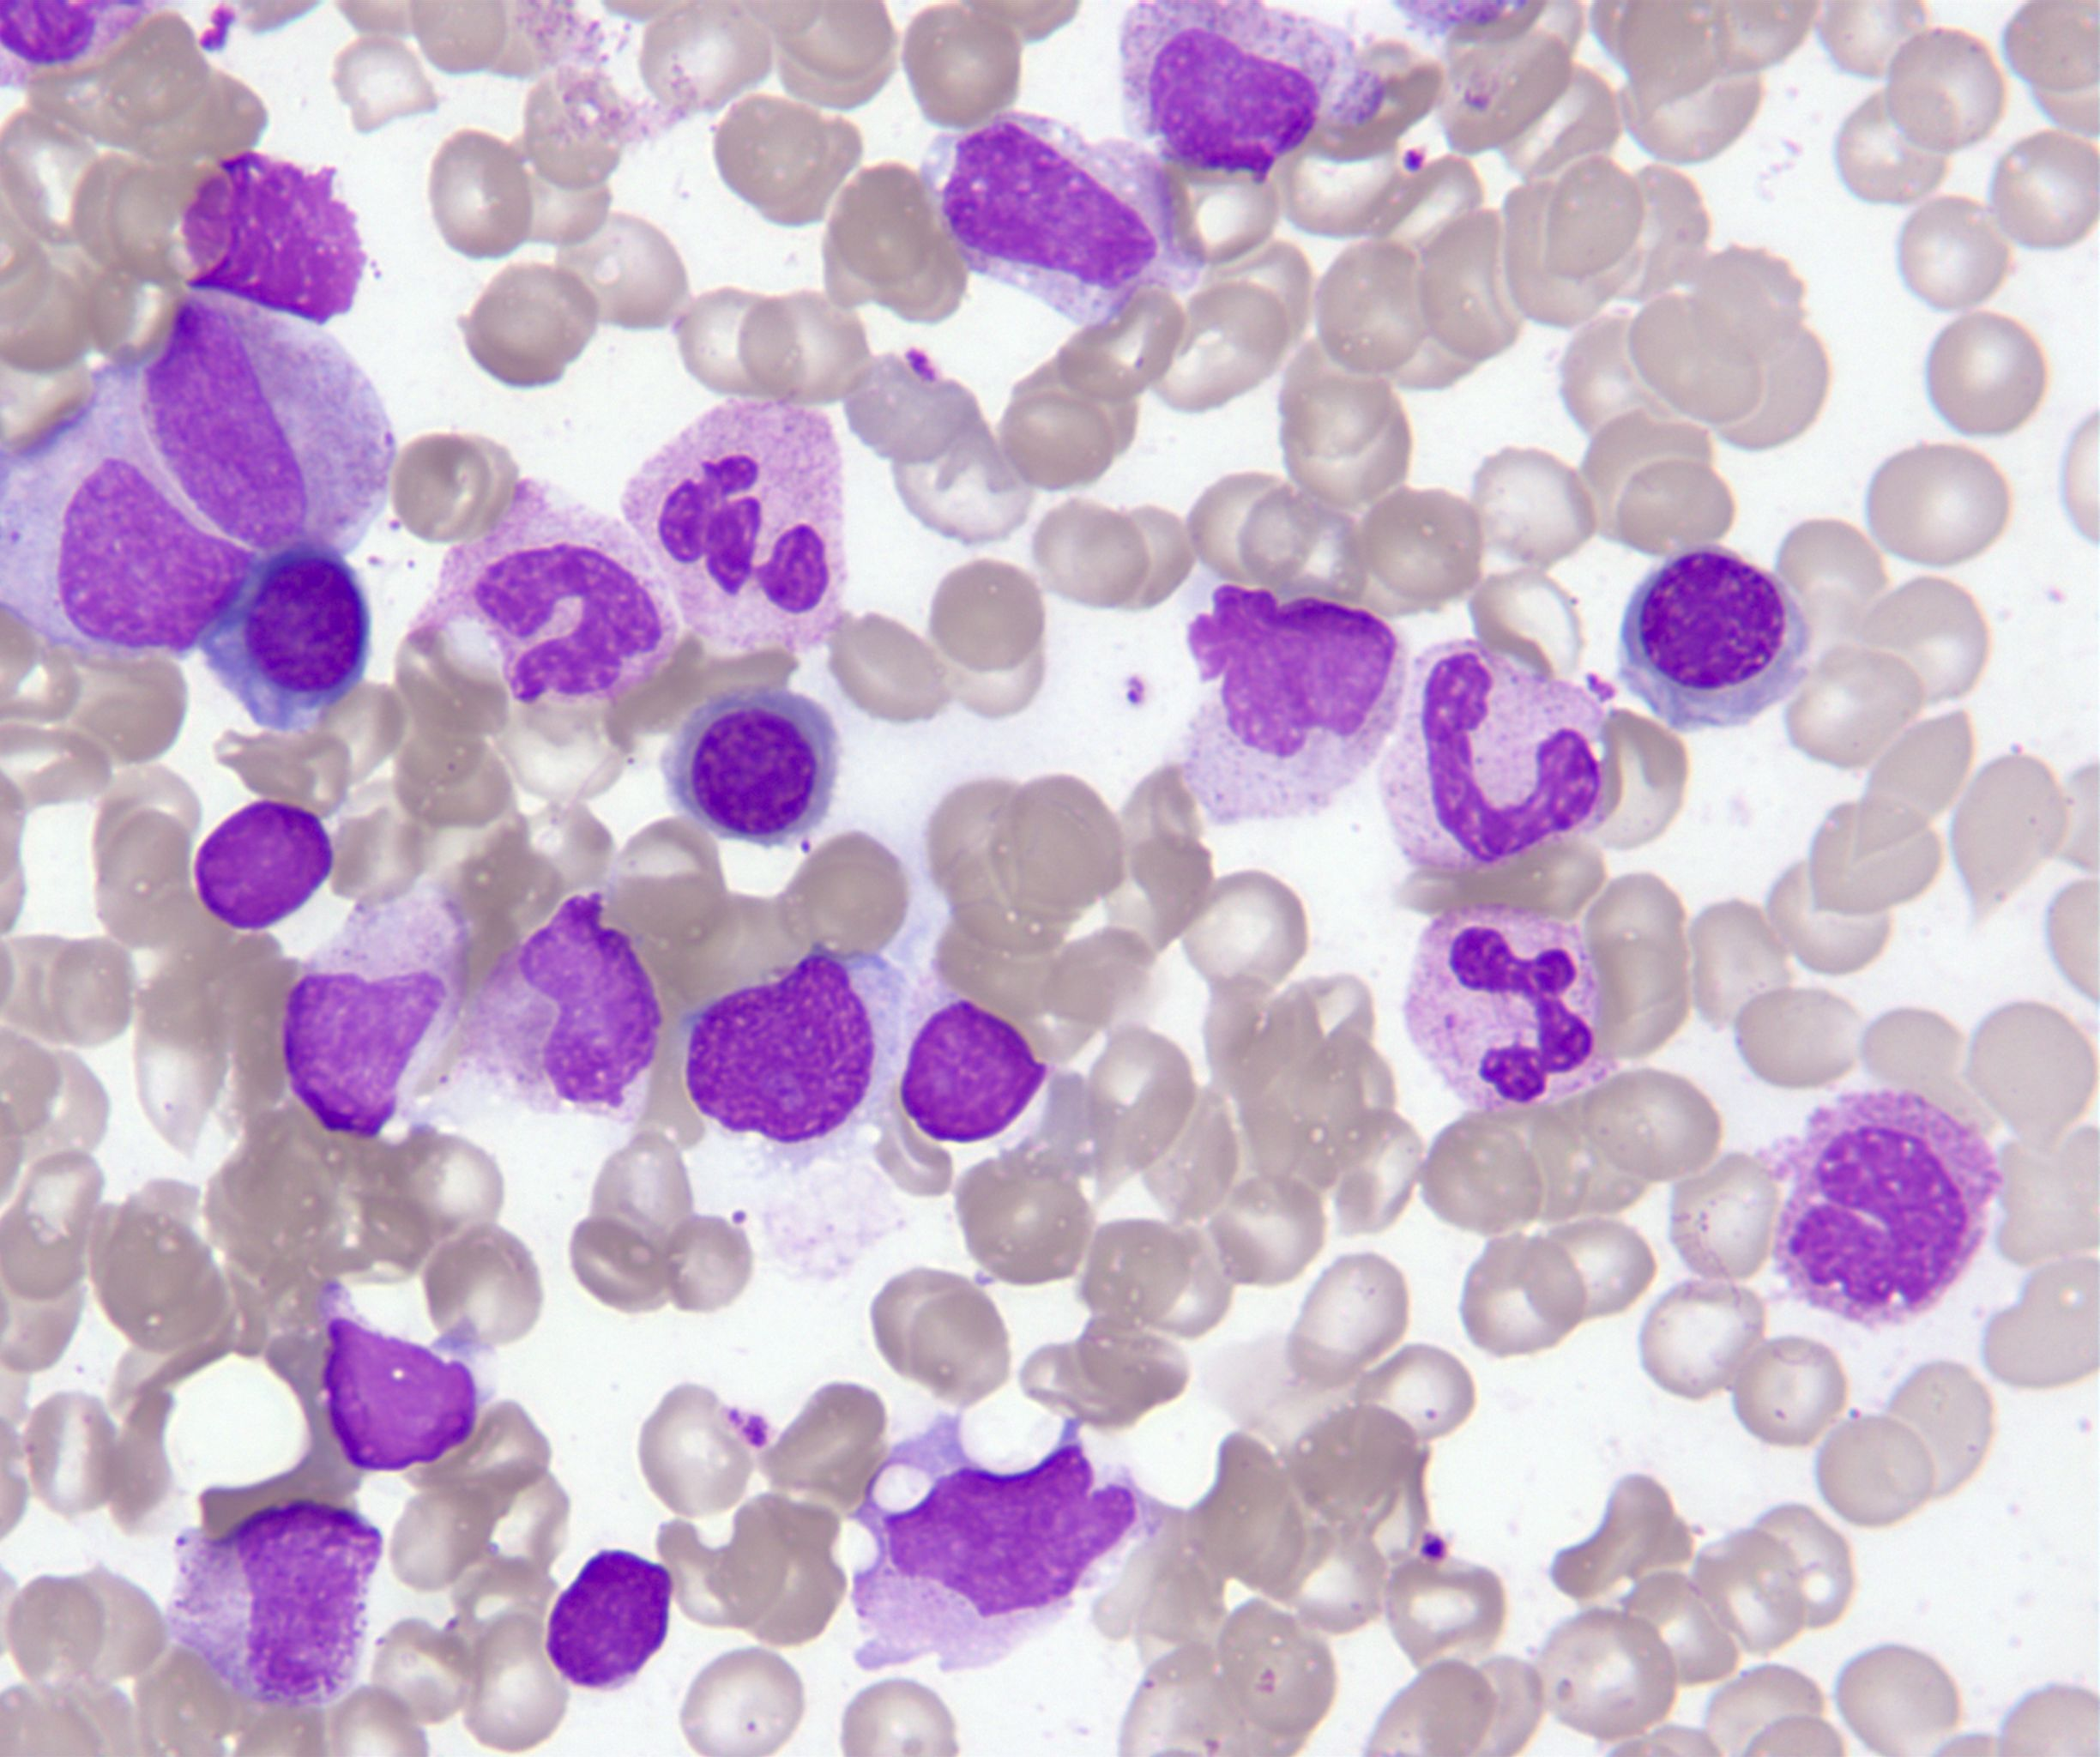23: (1606, 539, 1823, 740), (188, 532, 378, 735), (654, 679, 855, 860)
3: (127, 281, 403, 560), (912, 105, 1223, 340), (7, 450, 265, 665), (155, 1490, 387, 1720)
32: (317, 1309, 487, 1481), (534, 1539, 684, 1698)
4: (1113, 0, 1383, 190), (467, 886, 675, 1127), (277, 953, 466, 1146)
42: (842, 1420, 1153, 1682)
5: (398, 468, 689, 724), (1753, 1085, 2009, 1340), (1367, 628, 1617, 879)
6: (614, 393, 855, 661), (1402, 895, 1627, 1120)
x: (1165, 571, 1415, 836), (675, 930, 900, 1160), (171, 152, 373, 332), (891, 991, 1064, 1159), (185, 790, 340, 939)
